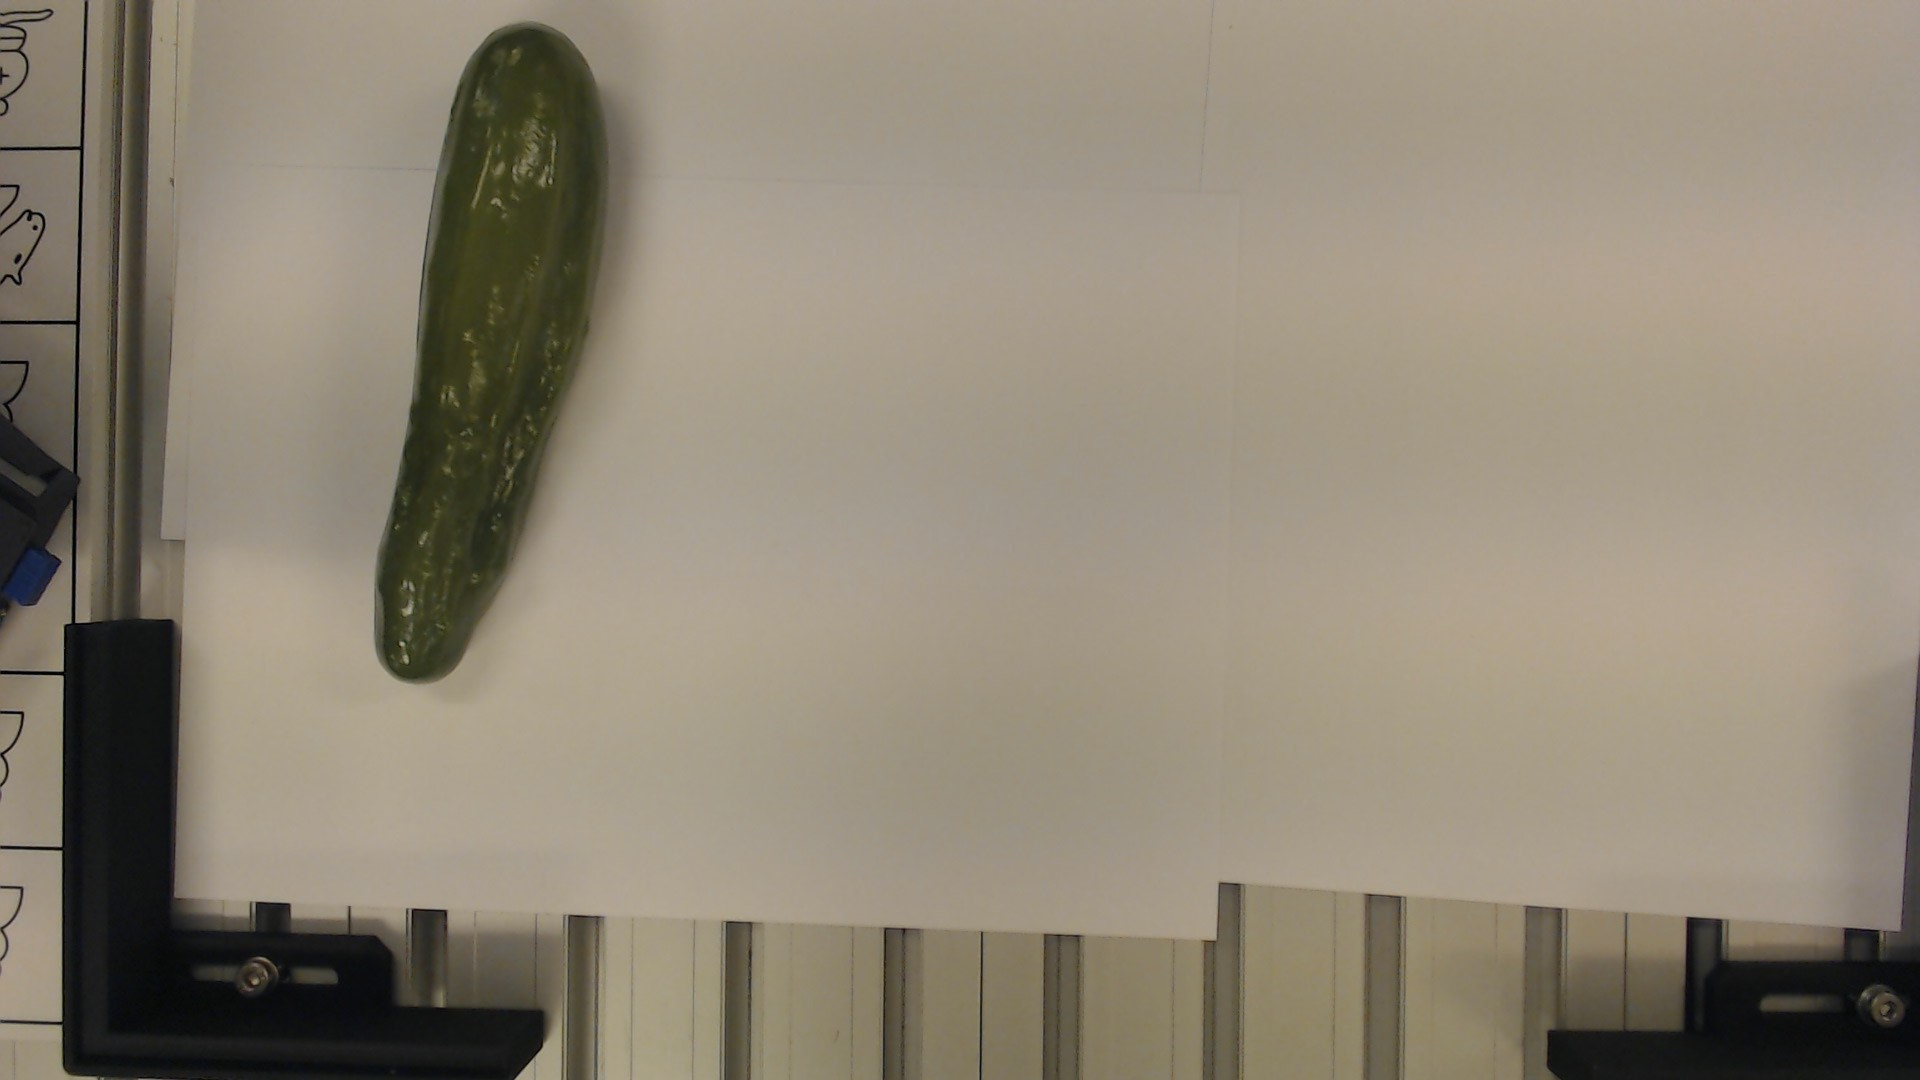Cucumber: (371, 20, 620, 671)
